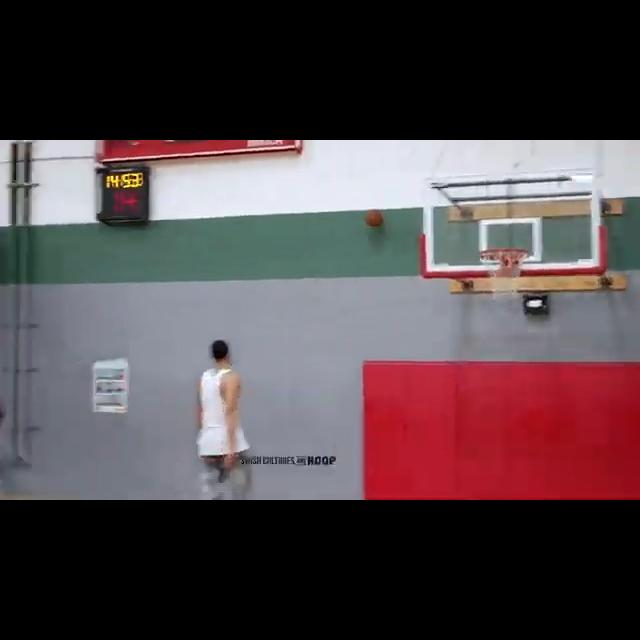hoop: (479, 247, 530, 306)
